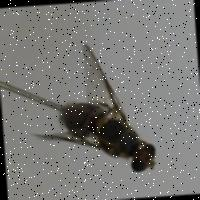Oriental-fruit-fly: (32, 42, 163, 186)
